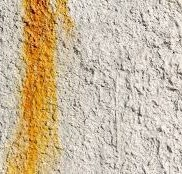Corrosion: (1, 1, 76, 174)
